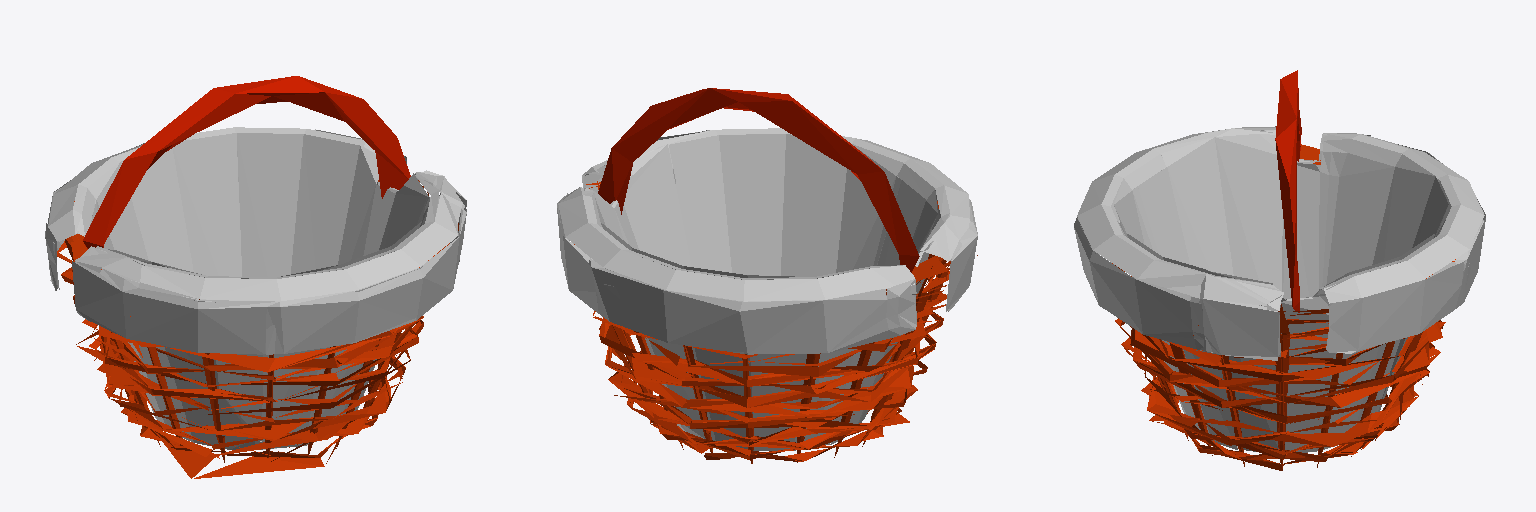
The model's file is canasta.obj.
3 renders of one model, left to right at view 1: azimuth 30°, elevation 25°; view 2: azimuth 150°, elevation 25°; view 3: azimuth 270°, elevation 25°, orthographic.
Parts seen in each view (by area): view 1: Basket_cloth_Basketcloth_lp_0, Basket_Basket_color_0, Basker_handle_lp_Basket_handle_normal_0; view 2: Basket_cloth_Basketcloth_lp_0, Basket_Basket_color_0, Basker_handle_lp_Basket_handle_normal_0; view 3: Basket_cloth_Basketcloth_lp_0, Basket_Basket_color_0, Basker_handle_lp_Basket_handle_normal_0.
Boxes of the visible parts, x1,y1,x2,y2 form: Basket_cloth_Basketcloth_lp_0: [45, 127, 466, 449]; Basket_Basket_color_0: [57, 180, 458, 478]; Basker_handle_lp_Basket_handle_normal_0: [83, 76, 410, 248]; Basket_cloth_Basketcloth_lp_0: [557, 128, 977, 450]; Basket_Basket_color_0: [574, 181, 977, 463]; Basker_handle_lp_Basket_handle_normal_0: [598, 88, 919, 272]; Basket_cloth_Basketcloth_lp_0: [1074, 126, 1485, 452]; Basket_Basket_color_0: [1112, 144, 1455, 470]; Basker_handle_lp_Basket_handle_normal_0: [1275, 70, 1301, 312].
Size of the model in its own units: 127 by 110 by 122.